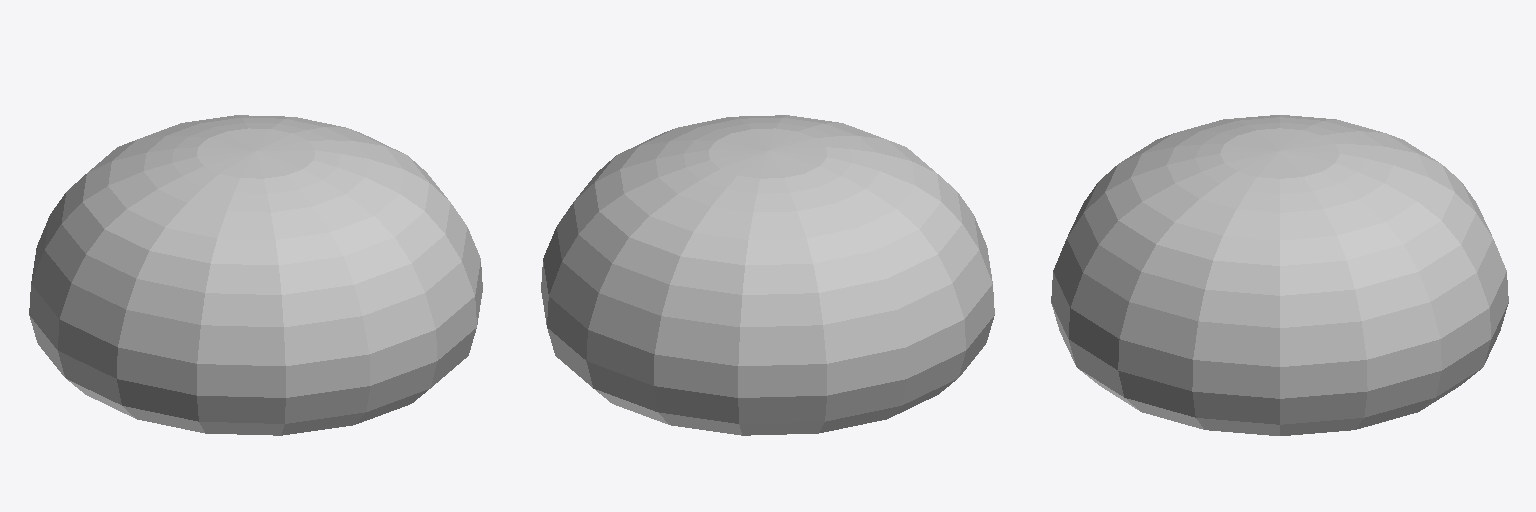
The model's file is Boss_Nuke_Explosion_Pilz_02.obj.
3 views of the same model, side by side, from view 1: azimuth 30°, elevation 25°; view 2: azimuth 150°, elevation 25°; view 3: azimuth 270°, elevation 25° (orthographic).
Visible parts, largest first — view 1: Pilz; view 2: Pilz; view 3: Pilz.
Part boxes in pixels (left/top/right/bottom): Pilz: left=29, top=115, right=482, bottom=435; Pilz: left=541, top=115, right=994, bottom=435; Pilz: left=1051, top=115, right=1508, bottom=435.
Size of the model in its own units: 2.8 by 1.42 by 2.8.